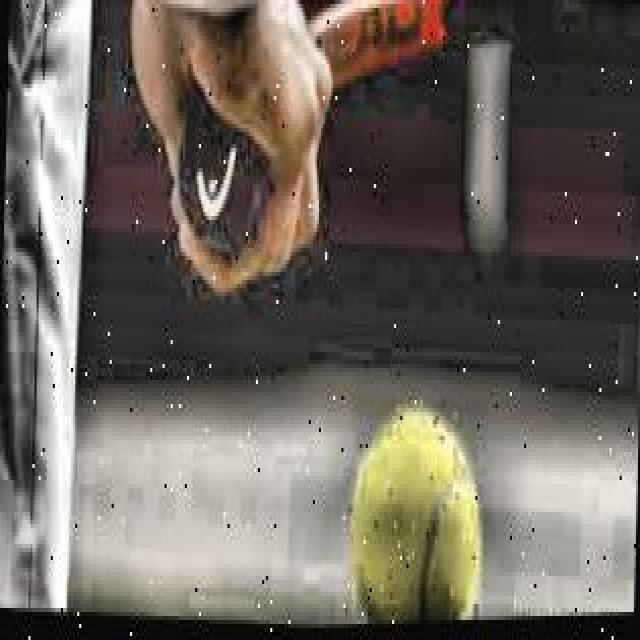tennis-ball: (343, 396, 490, 624)
